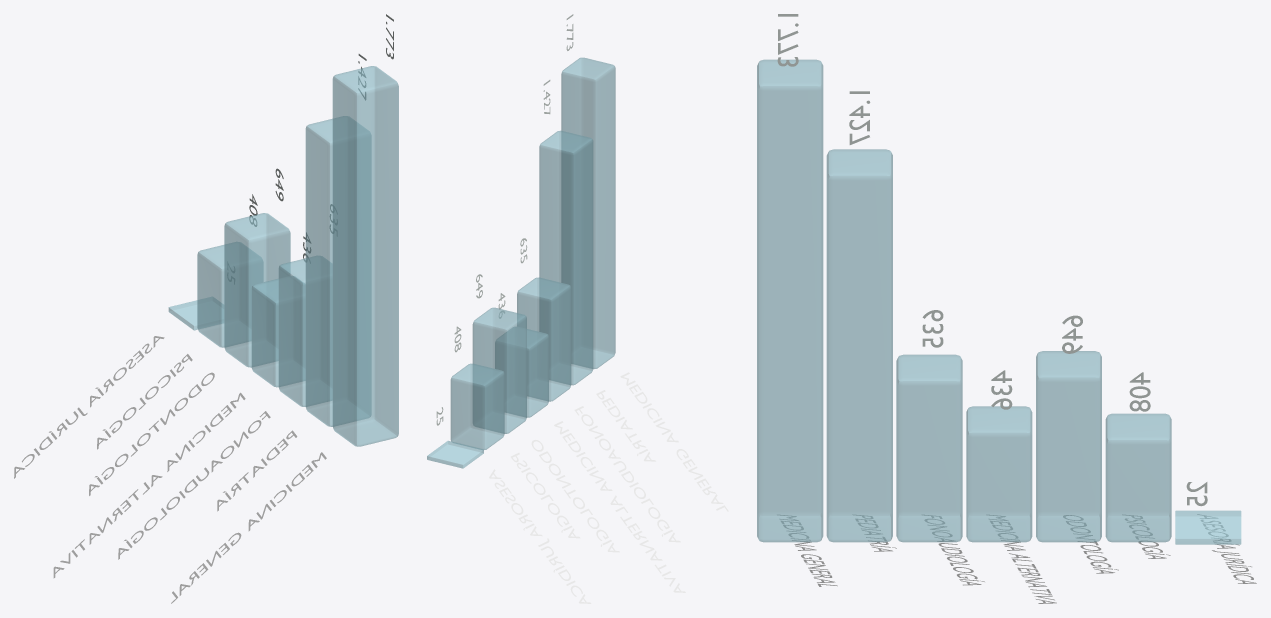
Rendered from Graficos_1.gltf.
3 renders of one model, left to right at view 1: azimuth 30°, elevation 25°; view 2: azimuth 150°, elevation 25°; view 3: azimuth 270°, elevation 25°, orthographic. The views are drawn at different scales.
Visible parts, largest first — view 1: pCube1, pCube2, pCube5, pCube3, pCube6, pCube4, pCube7, Text.003, Text, Text.006, Text.002, Text.004 (+1 smaller); view 2: pCube1, pCube2, pCube5, pCube3, pCube6, pCube4, pCube7, Text.003, Text, Text.006, Text.002, Text.004 (+2 smaller); view 3: pCube1, pCube2, pCube5, pCube3, pCube4, pCube6, pCube7, Text.003, Text.006, Text, Text.002.
Boxes of the visible parts, x1,y1,x2,y2 form: pCube1: (332,66,398,446); pCube2: (305,116,371,426); pCube5: (224,213,290,367); pCube3: (278,256,332,406); pCube6: (197,242,263,347); pCube4: (251,276,305,387); pCube7: (168,297,223,330); Text.003: (53,392,245,578); Text: (171,452,326,603); Text.006: (14,336,164,478); Text.002: (118,411,270,559); Text.004: (89,372,214,495); pCube1: (561,57,615,369); pCube2: (539,130,593,385); pCube5: (472,307,526,433); pCube3: (517,277,571,401); pCube6: (450,363,504,449); pCube4: (495,327,548,417); pCube7: (427,441,483,468); Text.003: (554,421,685,592); Text: (620,372,728,511); Text.006: (489,469,591,603); Text.002: (574,406,680,542); Text.004: (531,440,619,552); pCube1: (757,59,823,542); pCube2: (826,149,892,542); pCube5: (1036,351,1101,542); pCube3: (896,354,962,542); pCube4: (966,406,1032,542); pCube6: (1105,413,1171,542); pCube7: (1175,510,1241,544); Text.003: (989,515,1056,603); Text.006: (1197,514,1256,583); Text: (780,515,837,586); Text.002: (924,515,984,585).
Bounding box in the file's own units: 2.38 × 5.45 × 3.33.
